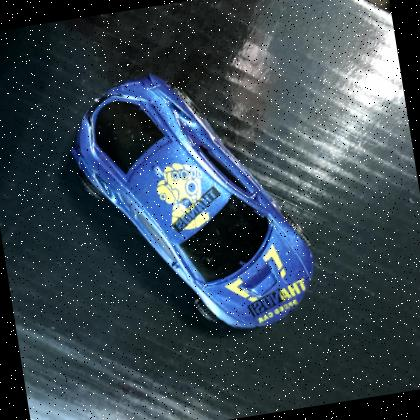Car: (55, 41, 332, 360)
